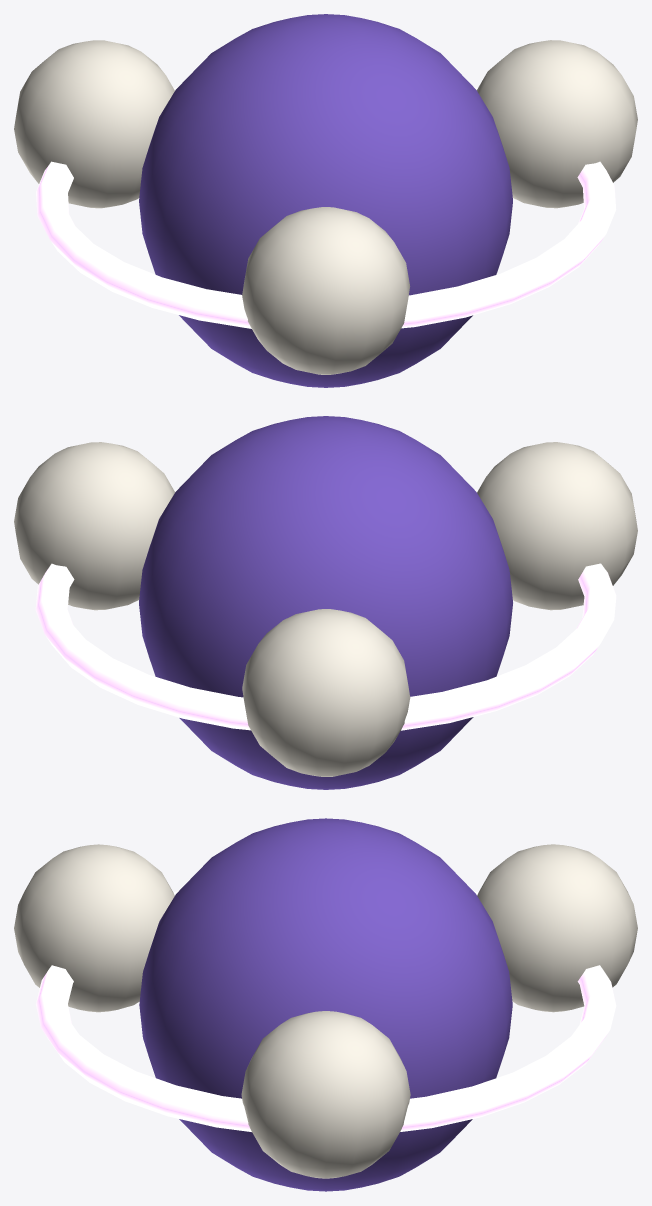
The model's file is multi.glb.
3 views of the same model, one above another, from view 1: azimuth 30°, elevation 25°; view 2: azimuth 150°, elevation 25°; view 3: azimuth 270°, elevation 25° (orthographic).
Visible parts, largest first — view 1: ball-multi; view 2: ball-multi; view 3: ball-multi.
Part boxes in pixels (x1,y1,x2,y2): ball-multi: (14,14,637,387); ball-multi: (14,416,637,789); ball-multi: (14,818,637,1191).
Bounding box in the file's own units: 2.18 × 1.28 × 2.14.
